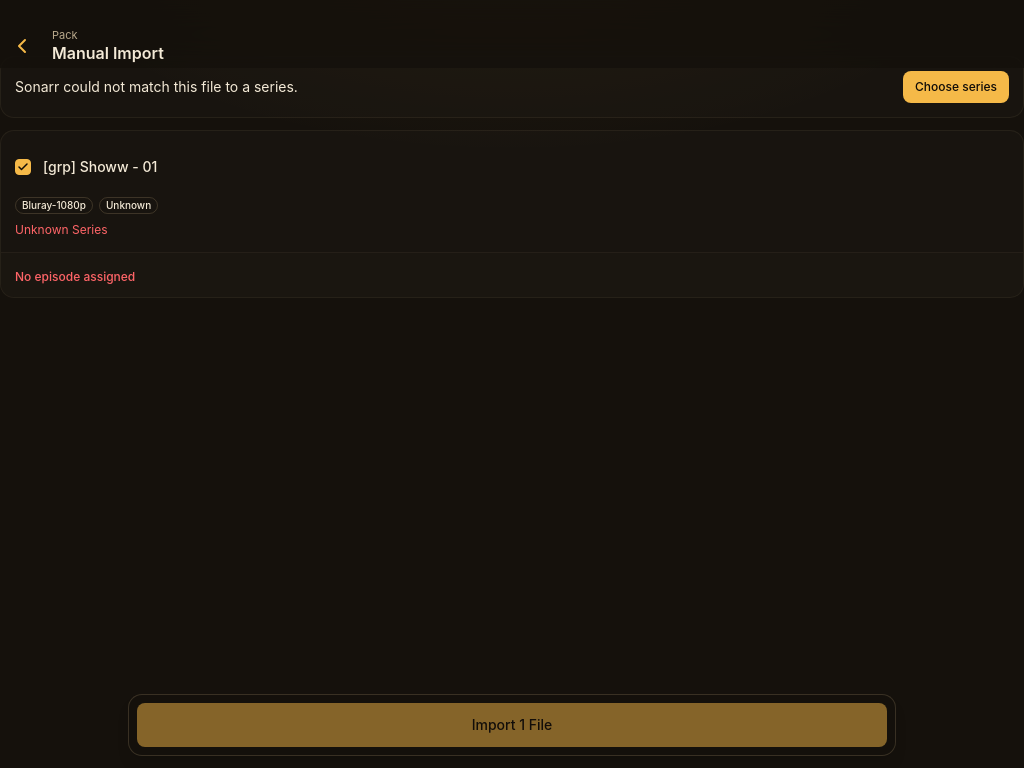
Test: manual import page › drops an answer that arrives after the user backed out of the picker
The image size is (1024, 768).
Click the button "Choose series": (956, 87) [903,71,1009,103]
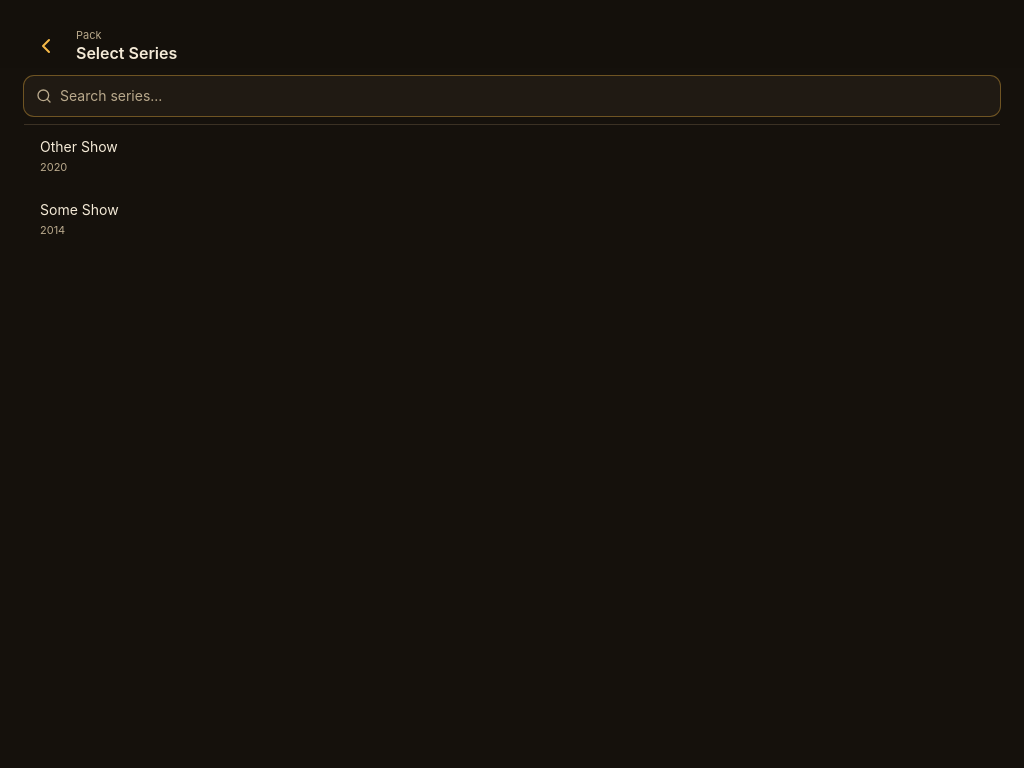
Expected: the button "Some Show 2014" is shown
Click the button "Some Show 2014": (79, 209) [24,188,1000,250]
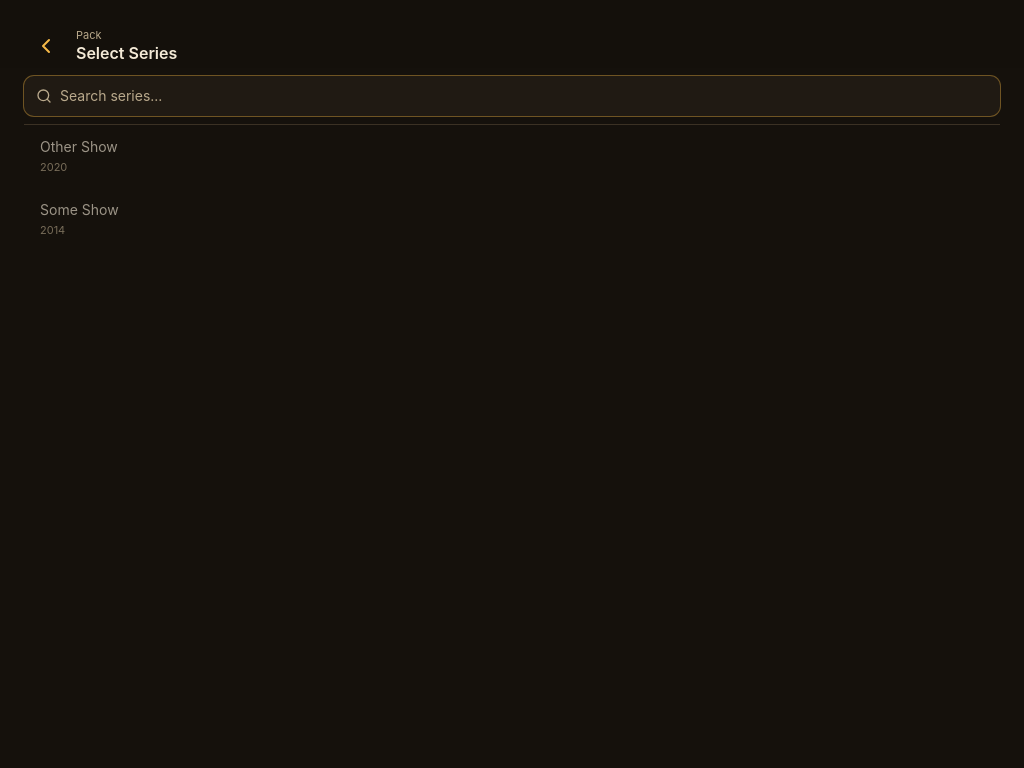
Click the button named "Go back": (46, 46) [24,24,68,68]
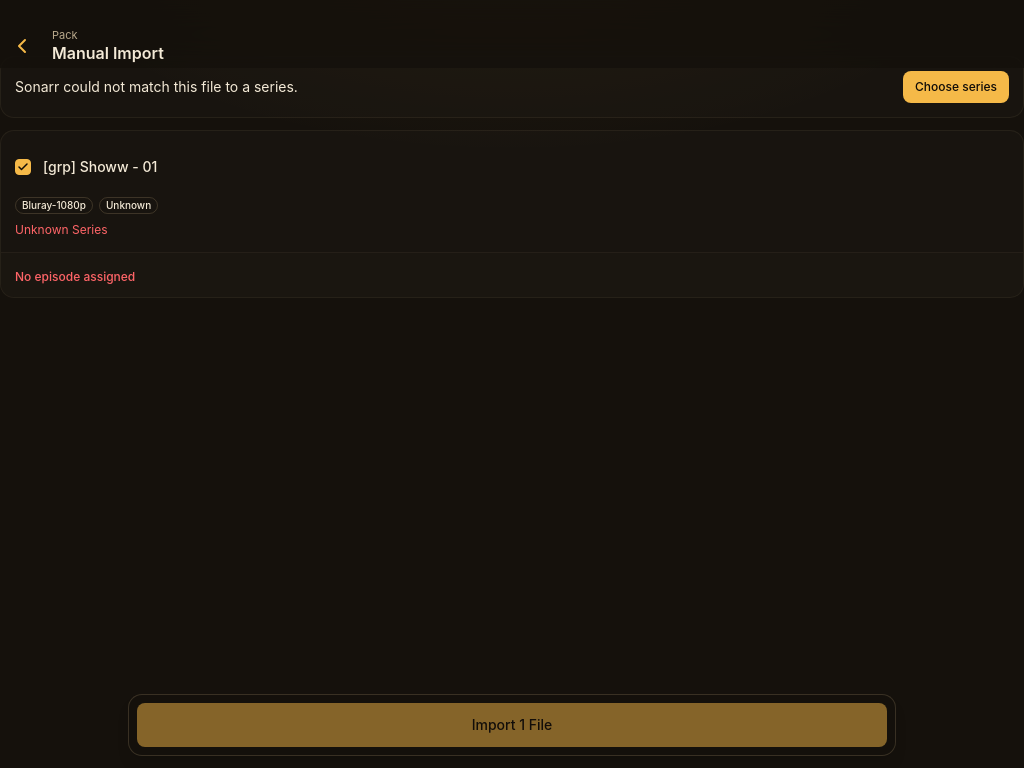
Expected: the text "Import 1 File" is shown, [137,703,887,747]
Expected: the text "Sonarr could not match this file to a series." is shown, [15,78,298,95]
Expected: the button "Import 1 File" is disabled, [137,703,887,747]
